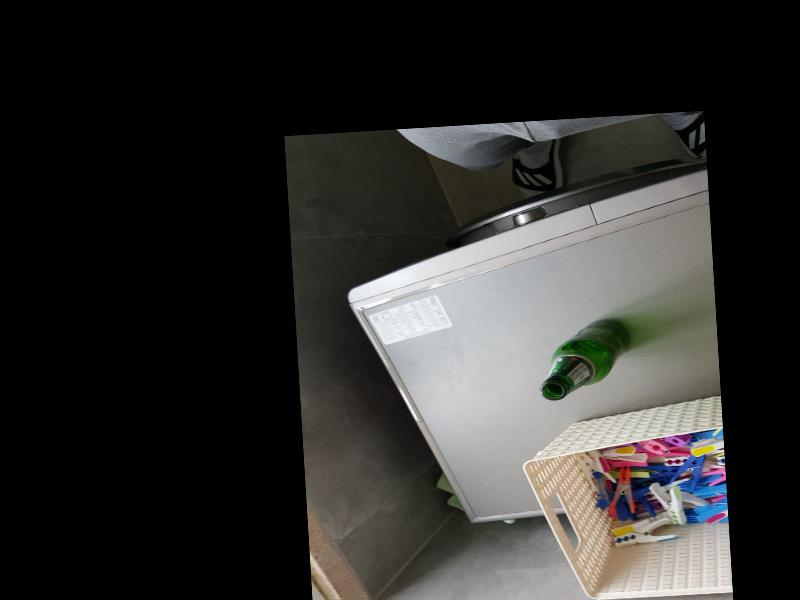Beer: (535, 317, 633, 400)
